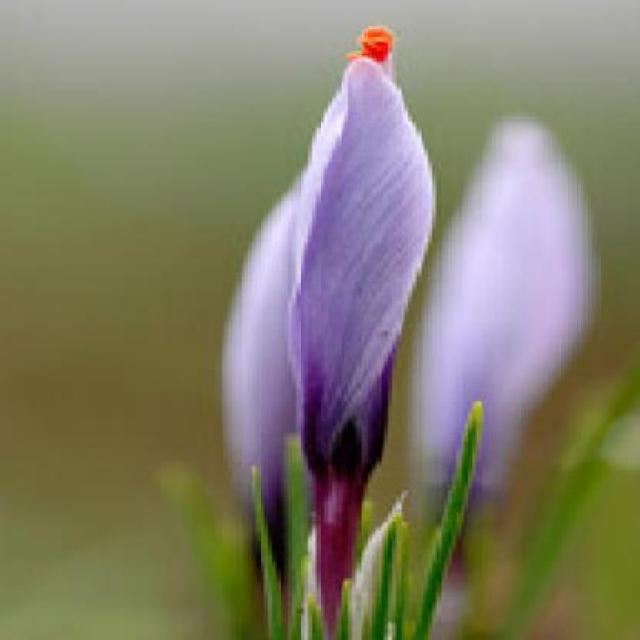Flower: (400, 106, 597, 568), (280, 15, 422, 539), (220, 139, 340, 563)
stigma: (349, 20, 390, 67)
